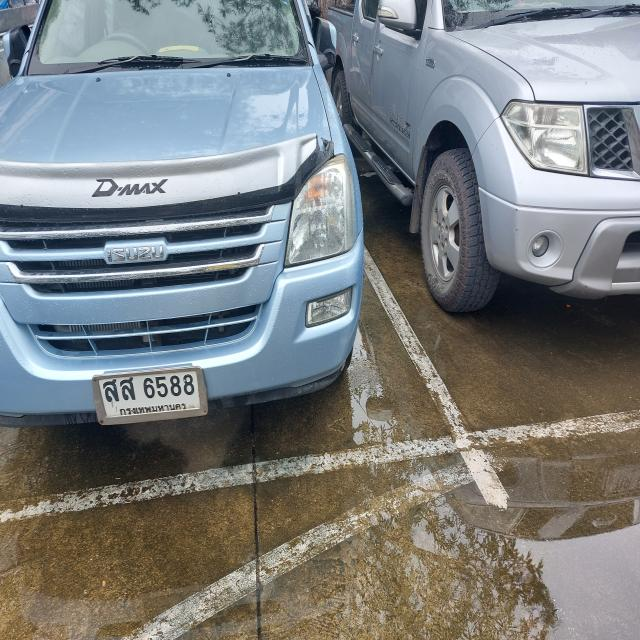license_plate: (90, 362, 209, 429)
